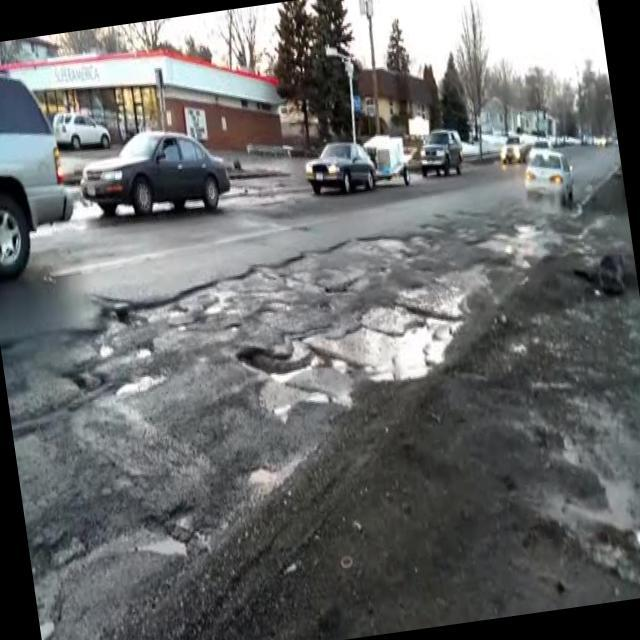Pothole: (230, 318, 368, 396), (113, 494, 215, 570), (362, 310, 444, 388), (28, 536, 72, 640), (234, 440, 308, 497), (112, 369, 170, 406), (107, 295, 151, 333), (198, 286, 238, 320), (132, 332, 154, 367), (98, 337, 120, 365)
